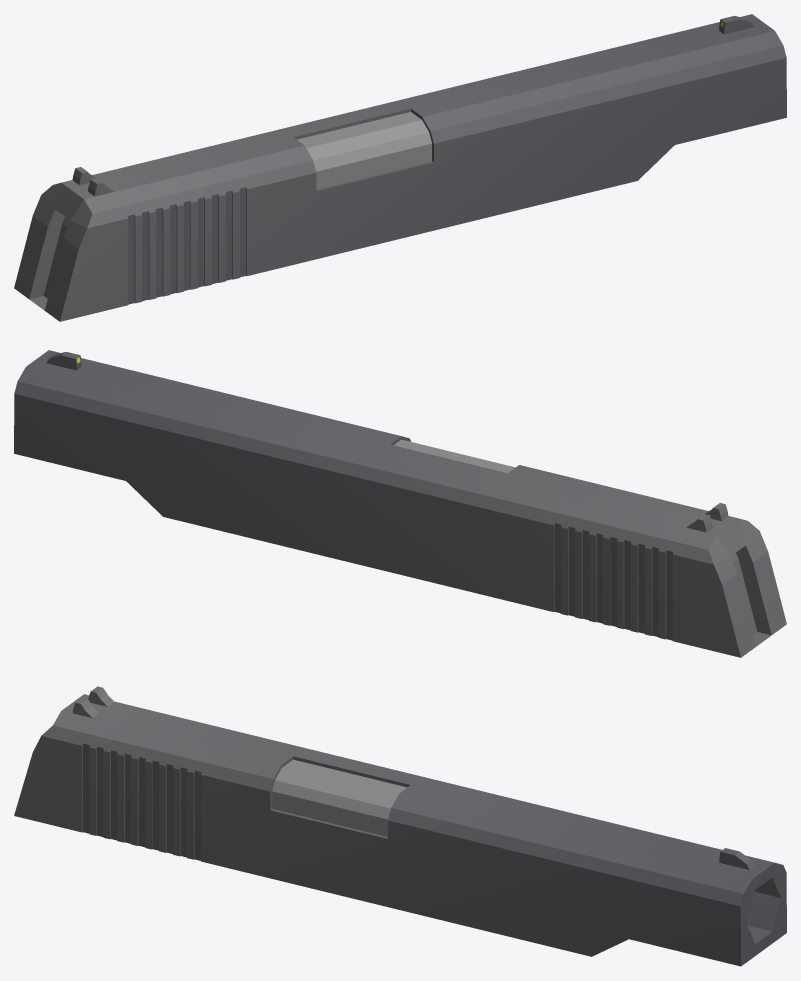
File: Pistol2_03_2.fbx
3 views of the same model, one above another, from view 1: azimuth 30°, elevation 25°; view 2: azimuth 150°, elevation 25°; view 3: azimuth 330°, elevation 25° (orthographic).
Parts seen in each view (by area): view 1: Pistol2_03_2; view 2: Pistol2_03_2; view 3: Pistol2_03_2.
Part boxes in pixels (box(x1,y1,x2,y2)): Pistol2_03_2: box(14, 14, 786, 321); Pistol2_03_2: box(14, 350, 786, 657); Pistol2_03_2: box(14, 686, 786, 966).
Bounding box in the file's own units: 0.225 × 0.0345 × 0.0246.
